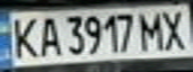1: (103, 11, 121, 54)
3: (60, 12, 84, 56)
7: (115, 10, 139, 53)
9: (81, 11, 106, 55)
A: (33, 14, 60, 58)
K: (3, 14, 42, 61)
M: (136, 8, 166, 52)
X: (157, 7, 193, 52)
